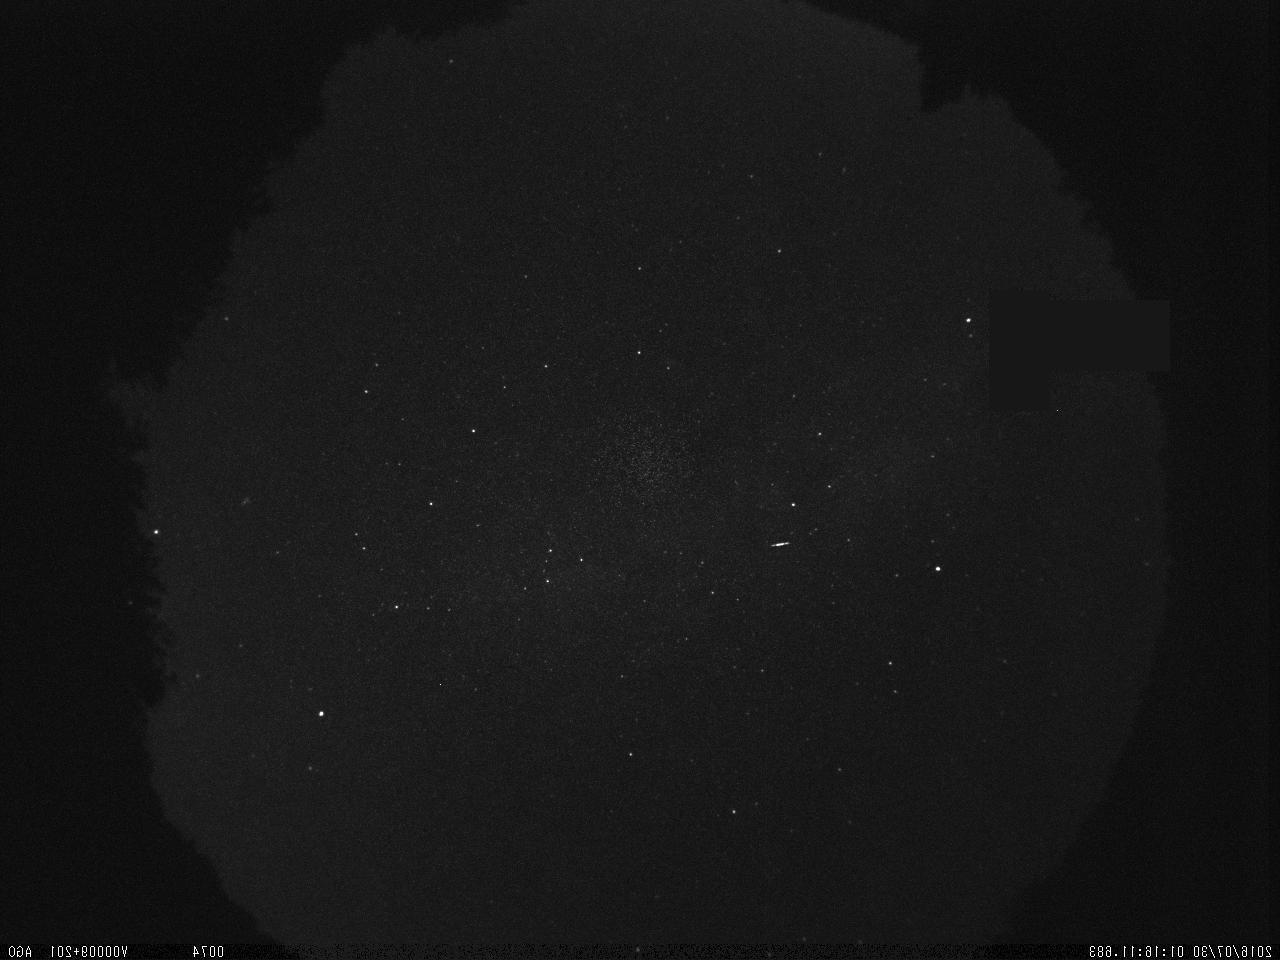meteor: (765, 537, 797, 558)
